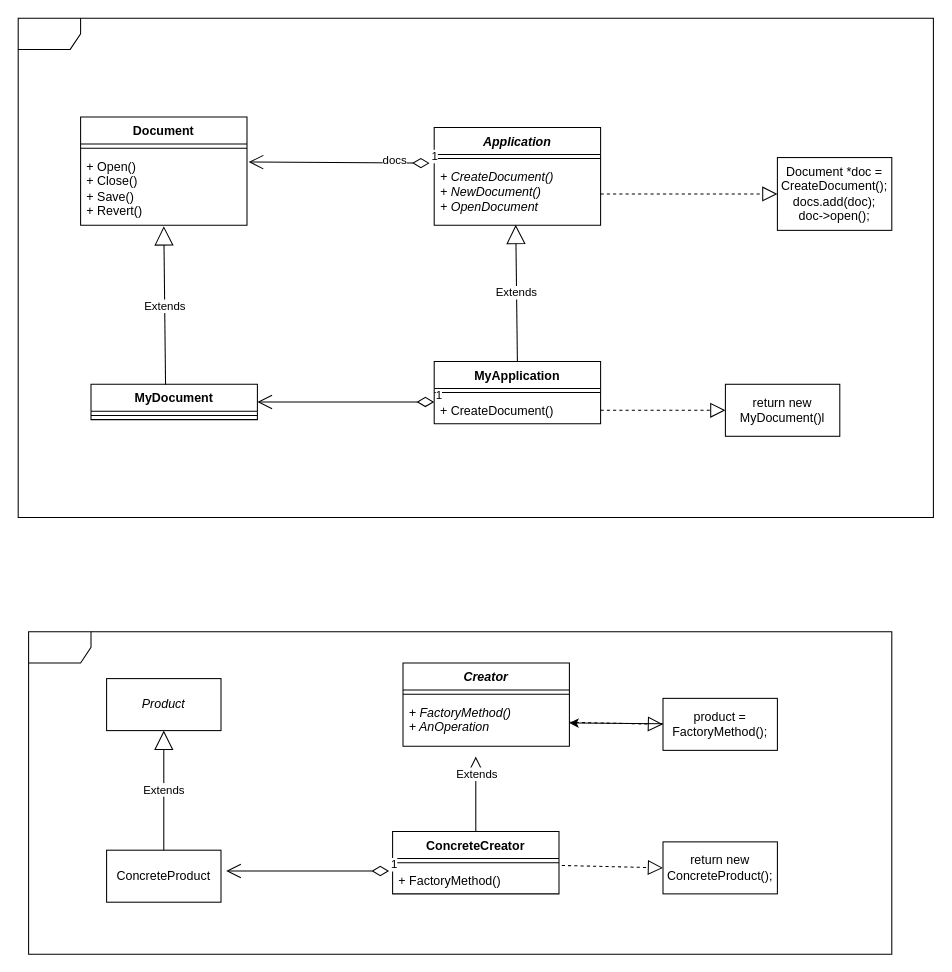
Some shapes in this 952 by 972 pixel diagram are drawn without their labels. The centre of each missing label's shape, as x and y in pixels:
Factory General Method: the point at 460,792
Factory Metod: the point at 475,267
